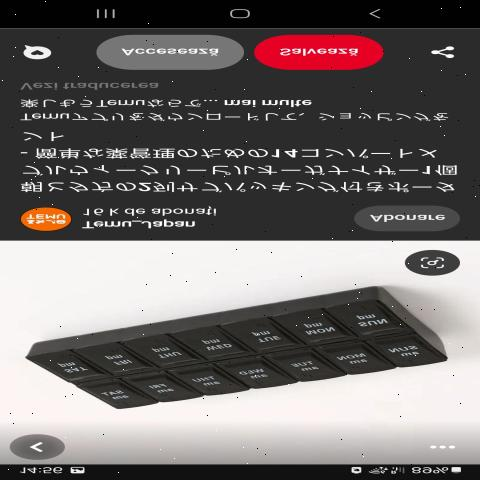PillBox: (22, 285, 461, 419)
